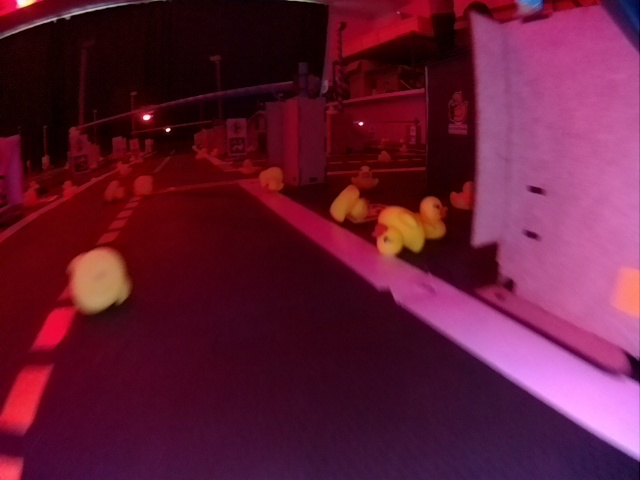Duckie: (66, 248, 130, 312), (375, 207, 422, 255), (414, 195, 446, 240), (330, 185, 370, 214), (352, 166, 379, 187), (452, 182, 471, 210), (257, 167, 281, 189), (104, 181, 123, 200), (135, 176, 152, 194)
QR code: (230, 137, 246, 153)
